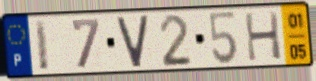2: (158, 12, 194, 69)
5: (207, 9, 240, 67)
7: (70, 16, 102, 71)
H: (242, 10, 284, 63)
I: (33, 17, 51, 73)
V: (114, 13, 151, 70)
